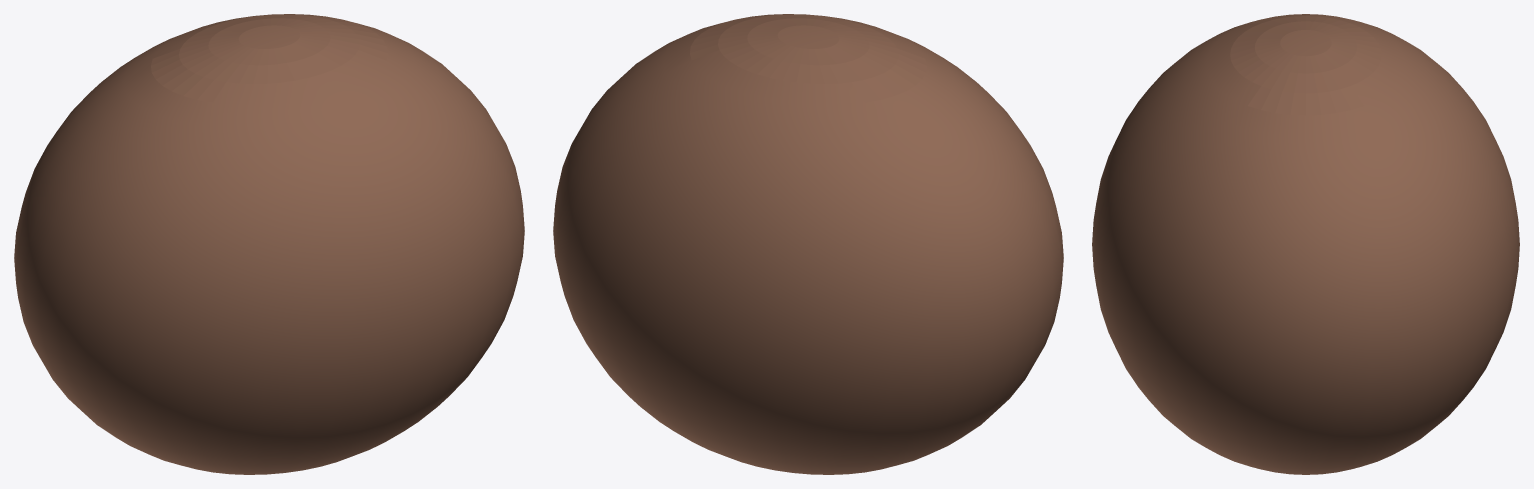
File: Hair_Afro.fbx
3 renders of one model, left to right at view 1: azimuth 30°, elevation 25°; view 2: azimuth 150°, elevation 25°; view 3: azimuth 270°, elevation 25°, orthographic. The views are drawn at different scales.
Parts seen in each view (by area): view 1: Hair; view 2: Hair; view 3: Hair.
Boxes of the visible parts, box(x1,y1,x2,y2) form: Hair: box(14, 14, 524, 474); Hair: box(553, 14, 1063, 474); Hair: box(1092, 14, 1519, 474).
Bounding box in the file's own units: 104 × 90 × 86.
